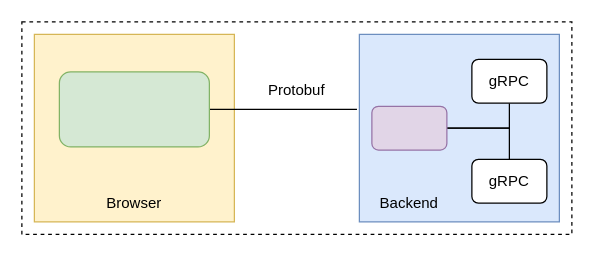
The diagram is 594 pixels wide and 256 high, and some of its shapes have lost their labels. The centre of each missing label's shape, as x and y in pixels:
Envoy: the point at 409,127
gRPC-Web App: the point at 133,109
